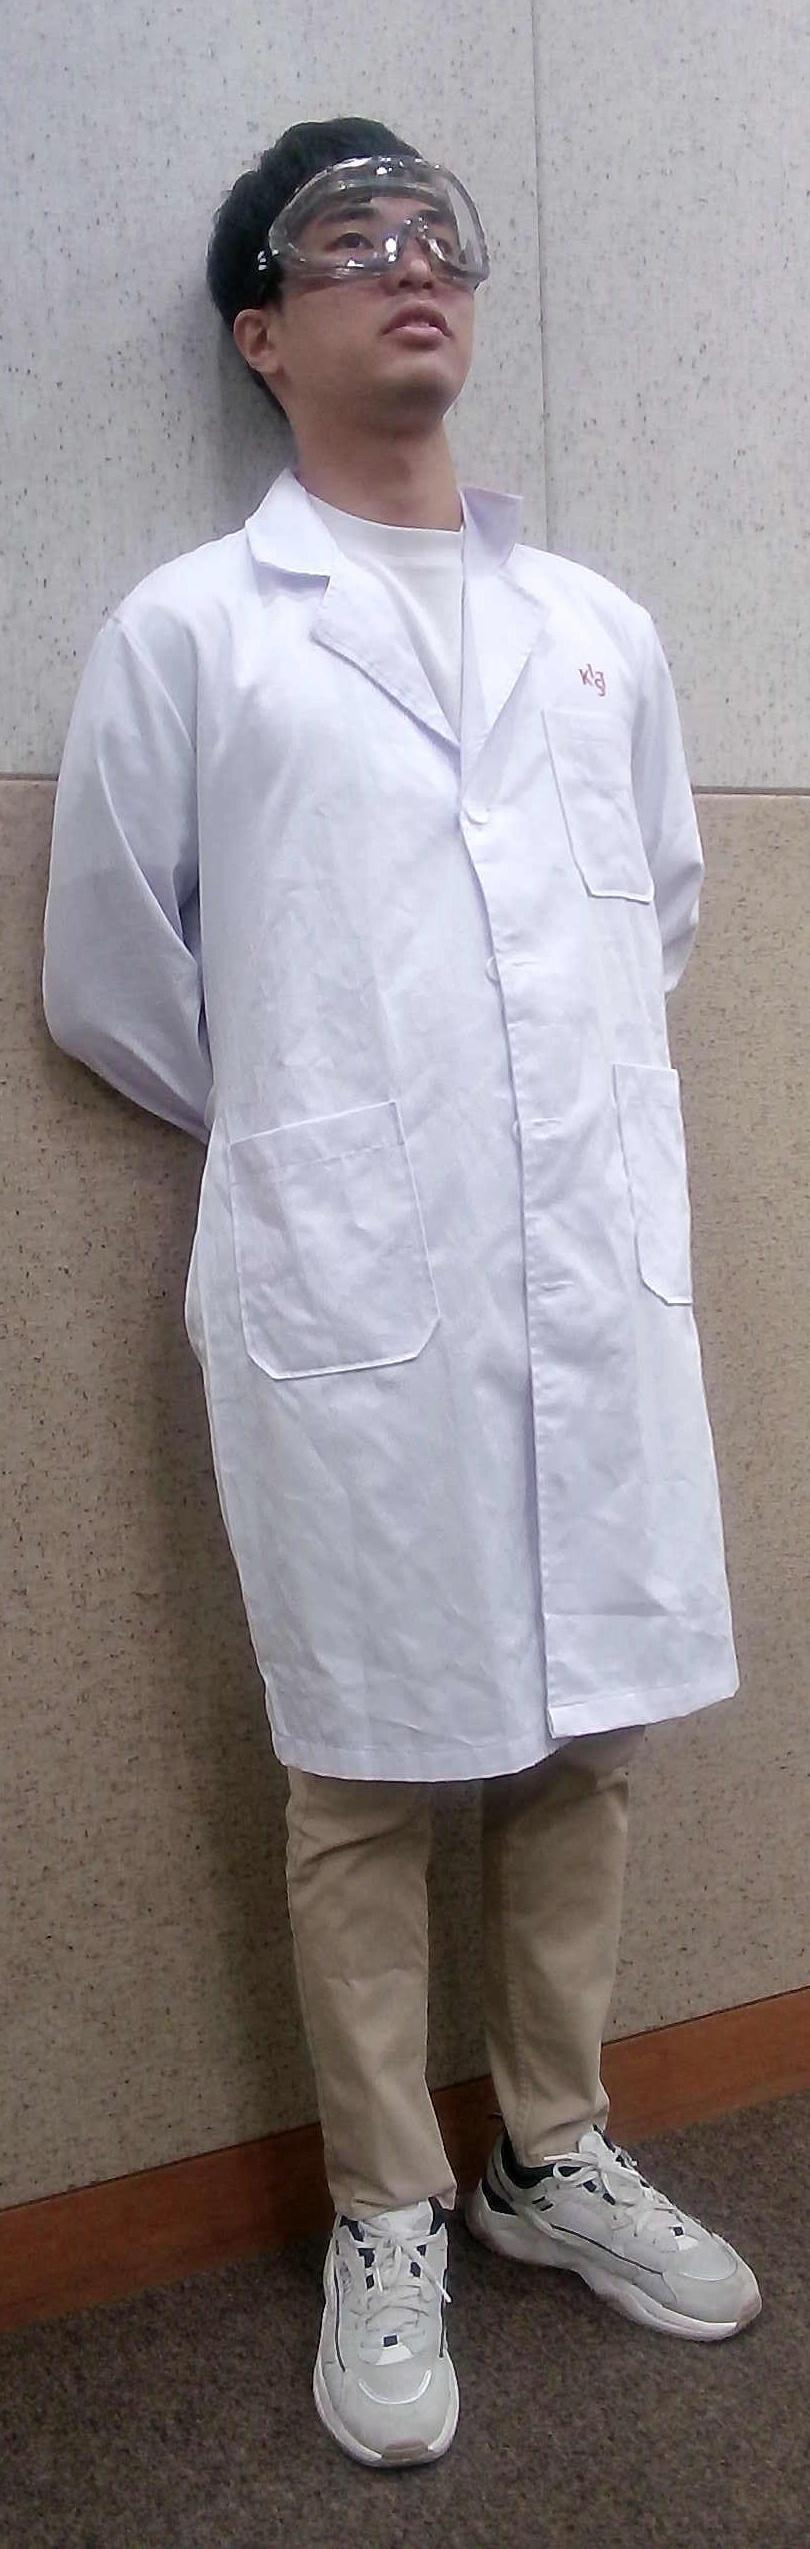lab_coat: (137, 536, 711, 1743)
